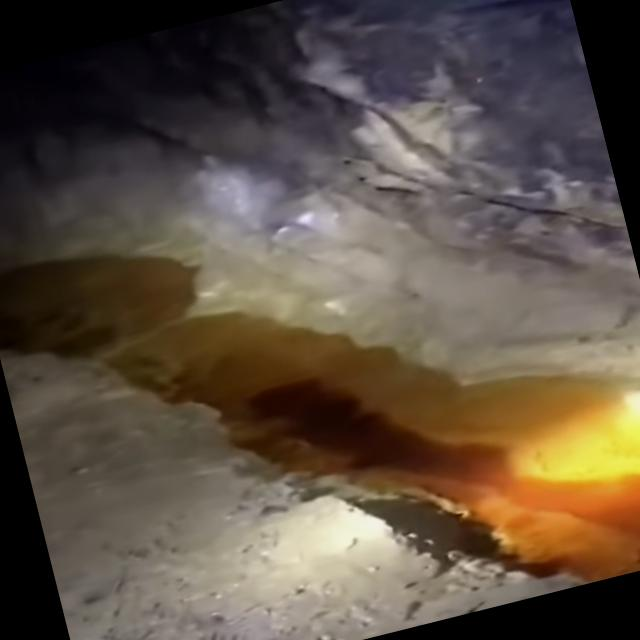yellow_boy: (52, 258, 640, 580)
